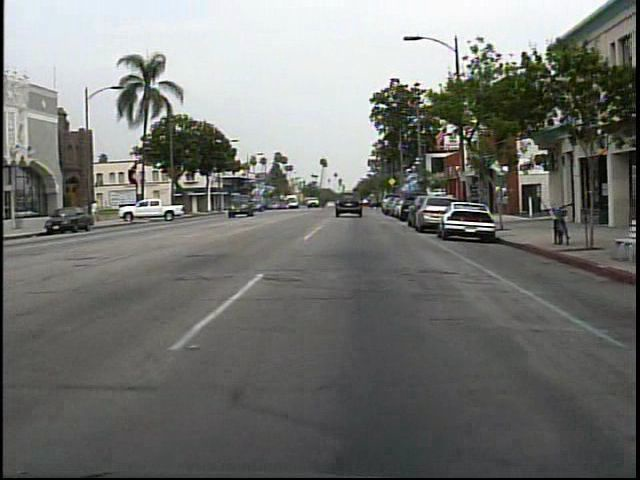person: (368, 189, 384, 219), (87, 198, 102, 228)
